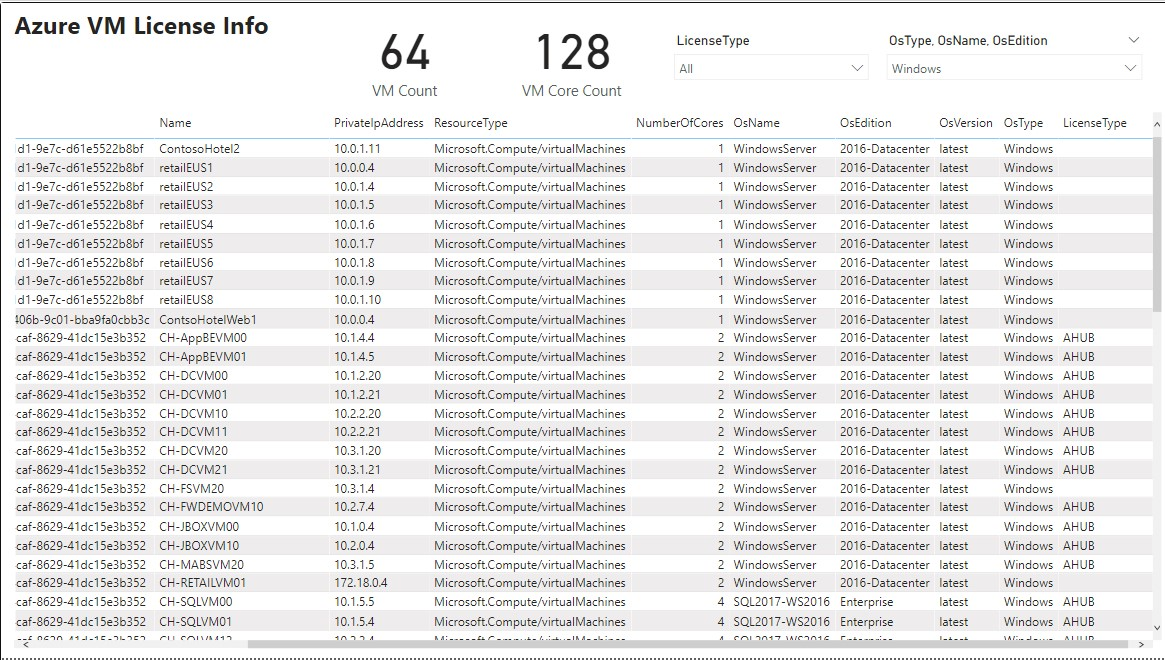

What the dashboard file says about the page in this screenshot:
{"tool":"powerbi","page":{"name":"Windows VMs","canvas":[1280,720],"ordinal":0},"visuals":[{"type":"tableEx","fields":{"Values":["VMInfo.SubscriptionName","VMInfo.SubscriptionId","VMInfo.Name","VMInfo.PrivateIpAddress","VMInfo.ResourceType","VMInfo.NumberOfCores","VMInfo.OsName","VMInfo.OsEdition","VMInfo.OsVersion","VMInfo.OsType","VMInfo.LicenseType"]},"box":[9.8,115.5,1270.2,598.5],"z":0},{"type":"slicer","fields":{"Values":["VMInfo.LicenseType"]},"box":[728.6,27.6,234.2,71.6],"z":1000},{"type":"slicer","fields":{"Values":["VMInfo.OsType","VMInfo.OsName","VMInfo.OsEdition"]},"box":[962.8,27.6,300.9,60.2],"z":2000},{"type":"textbox","box":[9.8,0,409.9,60.2],"z":3000},{"type":"card","fields":{"Values":["VMInfo.VM Count"]},"box":[340.6,0,206,115.4],"z":4000},{"type":"card","fields":{"Values":["VMInfo.VM Core Count"]},"box":[556.2,0,141.5,115.4],"z":5000}]}

Visuals, with their boxes in screenshot pixels (x1, y1, x2, y2), scaled from the page's 1280x720 canvas onto the 1165x660 screenshot:
tableEx - VMInfo.SubscriptionName x VMInfo.SubscriptionId: 9:106:1164:654
slicer - VMInfo.LicenseType: 663:25:876:91
slicer - VMInfo.OsType x VMInfo.OsName: 876:25:1150:80
textbox: 9:0:382:55
card - VMInfo.VM Count: 310:0:497:106
card - VMInfo.VM Core Count: 506:0:635:106
